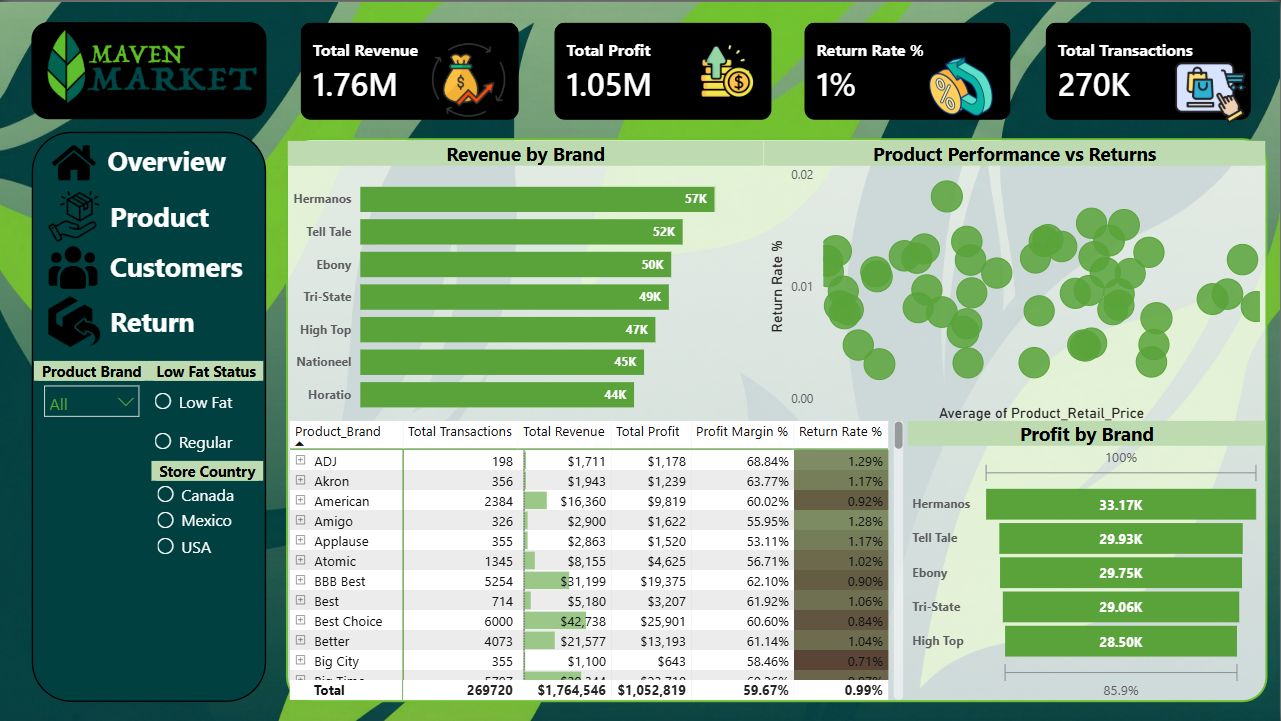

The dashboard page shown, as its layout file describes it:
{"tool":"powerbi","page":{"name":"Products","canvas":[1280,720],"ordinal":1},"visuals":[{"type":"image","box":[41.2,17.5,220,93.8],"z":0},{"type":"image","box":[47.5,187.5,52.5,53.8],"z":0,"group":"g2"},{"type":"image","box":[46.2,241.2,53.8,48.8],"z":0,"group":"g3"},{"type":"image","box":[47.5,291.2,53.8,56.2],"z":0,"group":"g4"},{"type":"slicer","title":"Product Brand","fields":{"Values":["Products.Product_Brand"]},"box":[33.8,359,115.7,198.8],"z":0,"group":"g9"},{"type":"group","id":"g1","title":"Group 1","box":[48.4,135.3,192.9,52.5],"z":1000},{"type":"image","box":[48.4,138.4,50,43.8],"z":1000,"group":"g1"},{"type":"textbox","box":[105,241.2,148.8,50],"z":1000,"group":"g3"},{"type":"textbox","box":[105,296.2,106.2,51.2],"z":1000,"group":"g4"},{"type":"listSlicer","fields":{"Values":["Products.Low Fat Status"]},"box":[148.7,359,114.3,101.3],"z":1000,"group":"g9"},{"type":"textbox","box":[102.5,135.3,138.8,52.5],"z":2000,"group":"g1"},{"type":"actionButton","box":[45,138.8,196.2,43.8],"z":2000},{"type":"textbox","box":[104.7,190.9,133.8,48.8],"z":2003,"group":"g2"},{"type":"group","id":"g2","title":"Group 2","box":[47.5,187.5,191.2,53.8],"z":3000},{"type":"actionButton","box":[48.8,187.5,196.2,53.8],"z":4000},{"type":"group","id":"g3","title":"Group 3","box":[46.2,241.2,207.5,50],"z":5000},{"type":"actionButton","box":[45,241.2,208.8,50],"z":6000},{"type":"group","id":"g4","title":"Group 4","box":[47.5,291.2,163.8,56.2],"z":7000},{"type":"actionButton","box":[46.2,291.2,208.8,56.2],"z":8000},{"type":"cardVisual","fields":{"Data":["select","All Measures.Total Transactions"]},"box":[1029.2,3.9,240,131.4],"z":9000,"group":"g7"},{"type":"cardVisual","fields":{"Data":["All Measures.Total Revenue"]},"box":[284.3,4.3,252.9,131.4],"z":9000,"group":"g5"},{"type":"pivotTable","title":"Product Portfolio Metrics","fields":{"Rows":["Products.Product_Brand","Products.Product_Name"],"Values":["All Measures.Total Transactions","All Measures.Total Revenue","All Measures.Total Profit","All Measures.Profit Margin %","All Measures.Return Rate %"]},"box":[284.4,418.9,623.2,279.3],"z":9000},{"type":"cardVisual","fields":{"Data":["All Measures.Return Rate %"]},"box":[787.4,3.9,240,131.4],"z":10000,"group":"g8"},{"type":"cardVisual","fields":{"Data":["All Measures.Total Profit"]},"box":[537.1,4.3,251.4,131.4],"z":10000,"group":"g6"},{"type":"scatterChart","title":"Product Performance vs Returns","fields":{"Category":["Products.Product_Name"],"Y":["All Measures.Return Rate %"],"X":["Avg(Products.Product_Retail_Price)"],"Size":["All Measures.Total Transactions"]},"box":[764.3,138.6,501.4,280.5],"z":10000},{"type":"group","id":"g5","title":"Group 5","box":[284.3,4.3,252.9,131.4],"z":11000},{"type":"group","id":"g6","title":"Group 6","box":[537.1,4.3,251.4,131.4],"z":12000},{"type":"image","box":[415.3,39.6,107.1,78.6],"z":12001,"group":"g5"},{"type":"image","box":[689.4,41.8,75,55.3],"z":12003,"group":"g6"},{"type":"group","id":"g7","title":"Group 7","box":[1029.2,3.9,240,131.4],"z":13000},{"type":"image","box":[1173.8,50.6,73.7,81.5],"z":13000,"group":"g7"},{"type":"image","box":[913.1,52.1,94.3,64.3],"z":13002,"group":"g8"},{"type":"group","id":"g8","title":"Group 8","box":[787.4,3.9,239.2,131.9],"z":14000},{"type":"barChart","title":"Revenue by Brand","fields":{"Category":["Products.Product_Brand"],"Y":["All Measures.Total Revenue"]},"box":[288.1,138.6,476.2,280.5],"z":15000},{"type":"funnel","title":"Profit by Brand","fields":{"Category":["Products.Product_Brand"],"Y":["All Measures.Total Profit"]},"box":[907.3,419.1,358.6,279.1],"z":16000},{"type":"group","id":"g9","title":"Group 9","box":[33.8,359,229.5,199.2],"z":17000},{"type":"listSlicer","title":"Store Country","fields":{"Values":["Stores.Store_Country"]},"box":[151.1,459.3,112.2,98.9],"z":19000,"group":"g9"}]}

Visuals, with their boxes in screenshot pixels (x1, y1, x2, y2), scaled from the page's 1280x720 canvas onto the 1281x721 screenshot:
image: x1=41, y1=18, x2=261, y2=111
image: x1=48, y1=188, x2=100, y2=242
image: x1=46, y1=242, x2=100, y2=290
image: x1=48, y1=292, x2=101, y2=348
"Product Brand" slicer: x1=34, y1=359, x2=150, y2=559
"Group 1" group: x1=48, y1=135, x2=241, y2=188
image: x1=48, y1=139, x2=98, y2=182
textbox: x1=105, y1=242, x2=254, y2=292
textbox: x1=105, y1=297, x2=211, y2=348
listSlicer - Products.Low Fat Status: x1=149, y1=359, x2=263, y2=461
textbox: x1=103, y1=135, x2=241, y2=188
actionButton: x1=45, y1=139, x2=241, y2=183
textbox: x1=105, y1=191, x2=239, y2=240
"Group 2" group: x1=48, y1=188, x2=239, y2=242
actionButton: x1=49, y1=188, x2=245, y2=242
"Group 3" group: x1=46, y1=242, x2=254, y2=292
actionButton: x1=45, y1=242, x2=254, y2=292
"Group 4" group: x1=48, y1=292, x2=211, y2=348
actionButton: x1=46, y1=292, x2=255, y2=348
cardVisual - select x All Measures.Total Transactions: x1=1030, y1=4, x2=1270, y2=135
cardVisual - All Measures.Total Revenue: x1=285, y1=4, x2=538, y2=136
"Product Portfolio Metrics" pivotTable: x1=285, y1=419, x2=908, y2=699
cardVisual - All Measures.Return Rate %: x1=788, y1=4, x2=1028, y2=135
cardVisual - All Measures.Total Profit: x1=538, y1=4, x2=789, y2=136
"Product Performance vs Returns" scatterChart: x1=765, y1=139, x2=1267, y2=420
"Group 5" group: x1=285, y1=4, x2=538, y2=136
"Group 6" group: x1=538, y1=4, x2=789, y2=136
image: x1=416, y1=40, x2=523, y2=118
image: x1=690, y1=42, x2=765, y2=97
"Group 7" group: x1=1030, y1=4, x2=1270, y2=135
image: x1=1175, y1=51, x2=1248, y2=132
image: x1=914, y1=52, x2=1008, y2=117
"Group 8" group: x1=788, y1=4, x2=1027, y2=136
"Revenue by Brand" barChart: x1=288, y1=139, x2=765, y2=420
"Profit by Brand" funnel: x1=908, y1=420, x2=1267, y2=699
"Group 9" group: x1=34, y1=359, x2=264, y2=559
"Store Country" listSlicer: x1=151, y1=460, x2=264, y2=559
